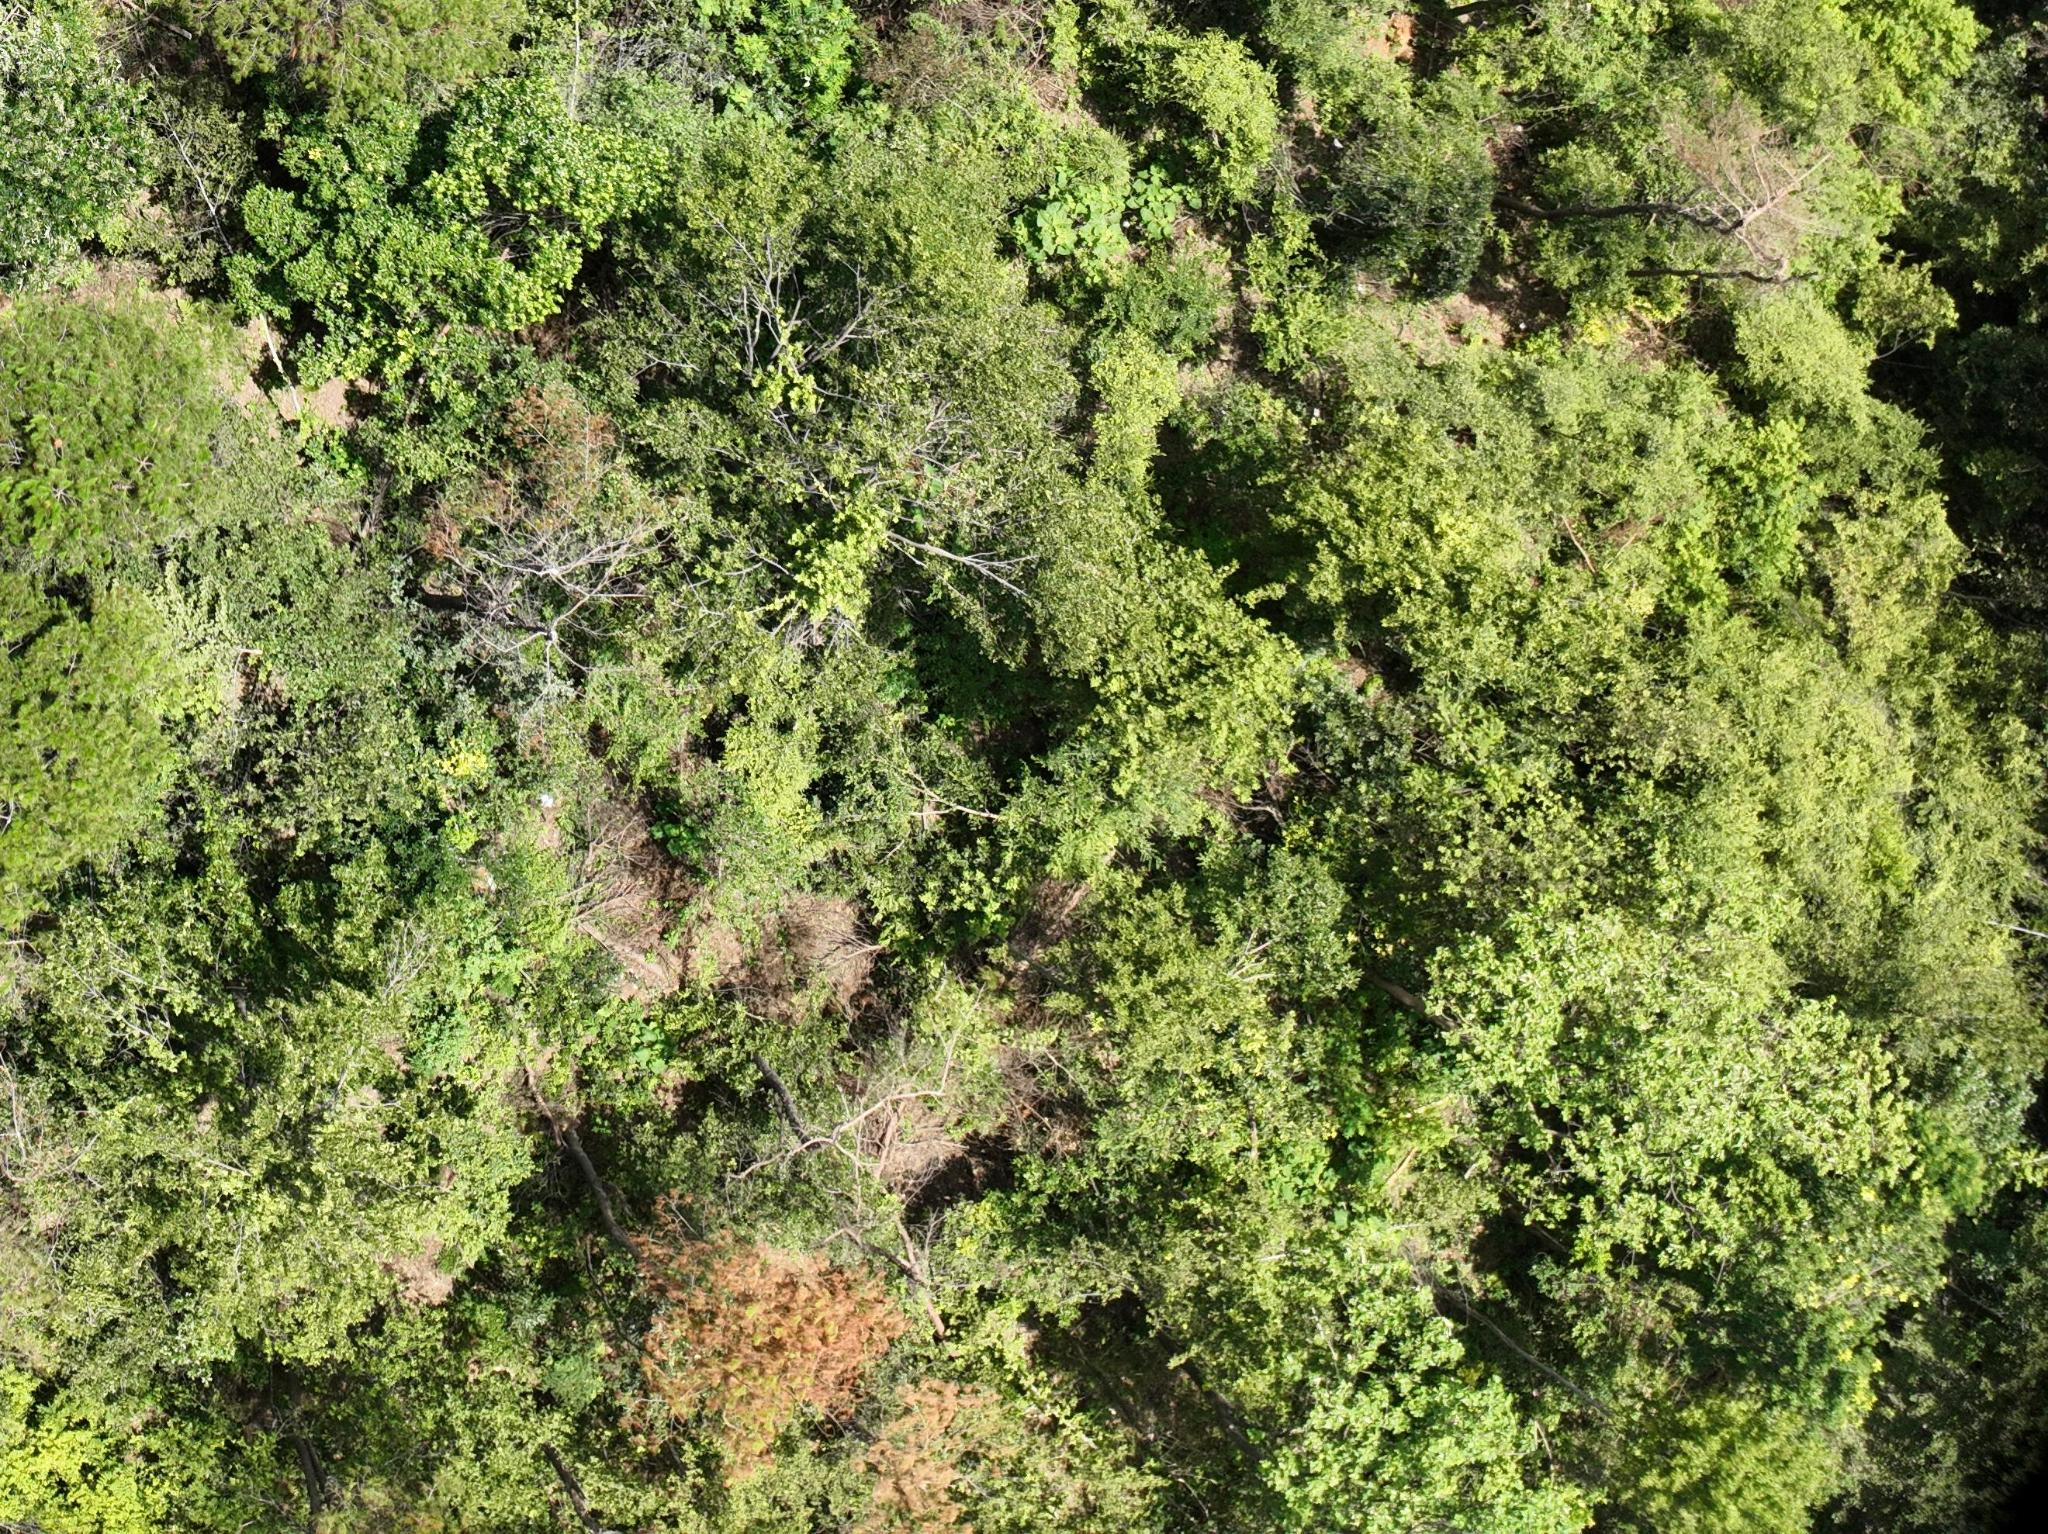heavy: (627, 1229, 906, 1461)
